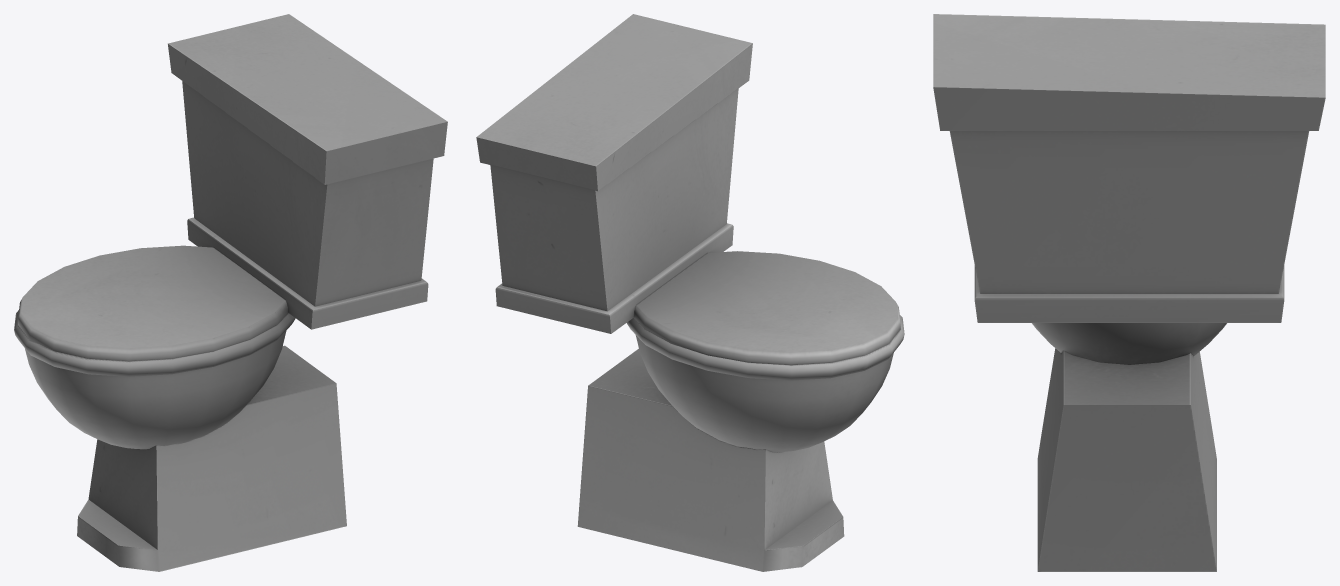
Rendered from SM_Toilet.fbx.
3 renders of one model, left to right at view 1: azimuth 30°, elevation 25°; view 2: azimuth 150°, elevation 25°; view 3: azimuth 270°, elevation 25°, orthographic. The views are drawn at different scales.
Parts seen in each view (by area): view 1: SM_Toilet_LOD0; view 2: SM_Toilet_LOD0; view 3: SM_Toilet_LOD0.
Boxes of the visible parts, x1=… form: SM_Toilet_LOD0: x1=14, y1=14, x2=447, y2=571; SM_Toilet_LOD0: x1=476, y1=14, x2=904, y2=571; SM_Toilet_LOD0: x1=933, y1=14, x2=1325, y2=571.
Bounding box in the file's own units: 127 × 102 × 149.
Materials: 1 (1 with a texture image).
